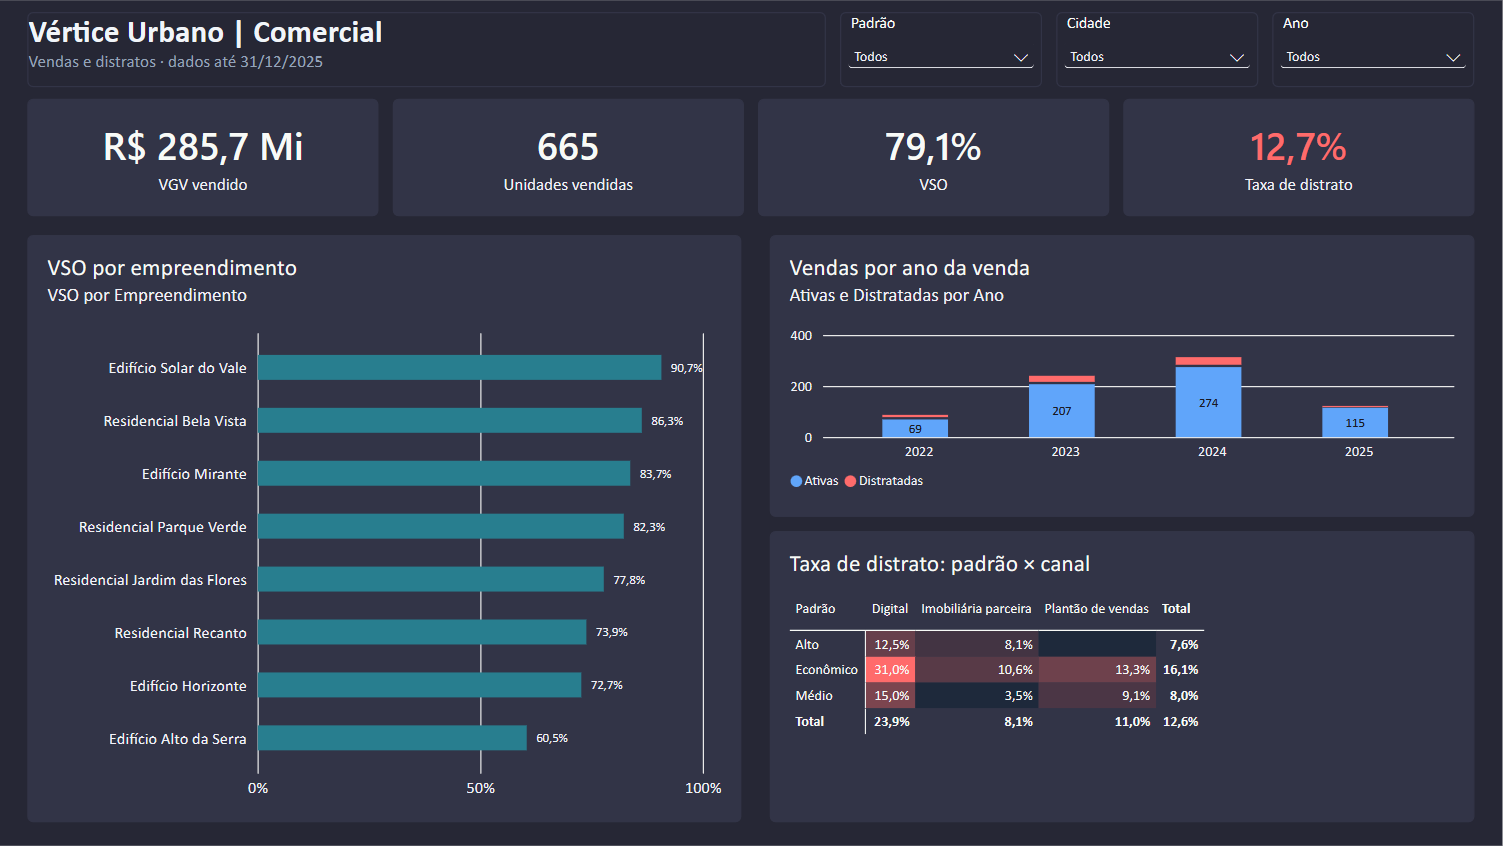

The page's visual inventory and layout, read from the dashboard file:
{"tool":"powerbi","page":{"name":"Comercial","canvas":[1280,720],"ordinal":1},"visuals":[{"type":"textbox","box":[24,10,680,64],"z":0},{"type":"slicer","fields":{"Values":["developments.standard"]},"box":[716,10,172,64],"z":1000},{"type":"slicer","fields":{"Values":["developments.city"]},"box":[900,10,172,64],"z":2000},{"type":"slicer","fields":{"Values":["calendar.Year"]},"box":[1084,10,172,64],"z":3000},{"type":"card","fields":{"Values":["_measures.Sold VGV"]},"box":[24,84,299,100],"z":4000},{"type":"card","fields":{"Values":["_measures.Units Sold"]},"box":[335,84,299,100],"z":5000},{"type":"card","fields":{"Values":["_measures.VSO %"]},"box":[646,84,299,100],"z":6000},{"type":"card","fields":{"Values":["_measures.Cancel Rate %"]},"box":[957,84,299,100],"z":7000},{"type":"clusteredBarChart","title":"VSO por empreendimento","fields":{"Category":["developments.development_name"],"Y":["_measures.VSO %"]},"box":[24,200,608,500],"z":8000},{"type":"columnChart","title":"Vendas por ano da venda","fields":{"Category":["calendar.Year"],"Y":["_measures.Units Sold","_measures.Cancelled Sales"]},"box":[656,200,600,240],"z":9000},{"type":"pivotTable","title":"Taxa de distrato: padrão × canal","fields":{"Columns":["sales.channel"],"Rows":["developments.standard"],"Values":["_measures.Cancel Rate %"]},"box":[656,452,600,248],"z":10000}]}

Visuals, with their boxes in screenshot pixels (x1, y1, x2, y2), scaled from the page's 1280x720 canvas onto the 1504x847 screenshot:
textbox: Rect(28, 12, 827, 87)
slicer - developments.standard: Rect(841, 12, 1043, 87)
slicer - developments.city: Rect(1058, 12, 1260, 87)
slicer - calendar.Year: Rect(1274, 12, 1476, 87)
card - _measures.Sold VGV: Rect(28, 99, 380, 216)
card - _measures.Units Sold: Rect(394, 99, 745, 216)
card - _measures.VSO %: Rect(759, 99, 1110, 216)
card - _measures.Cancel Rate %: Rect(1124, 99, 1476, 216)
"VSO por empreendimento" clusteredBarChart: Rect(28, 235, 743, 823)
"Vendas por ano da venda" columnChart: Rect(771, 235, 1476, 518)
"Taxa de distrato: padrão × canal" pivotTable: Rect(771, 532, 1476, 823)
